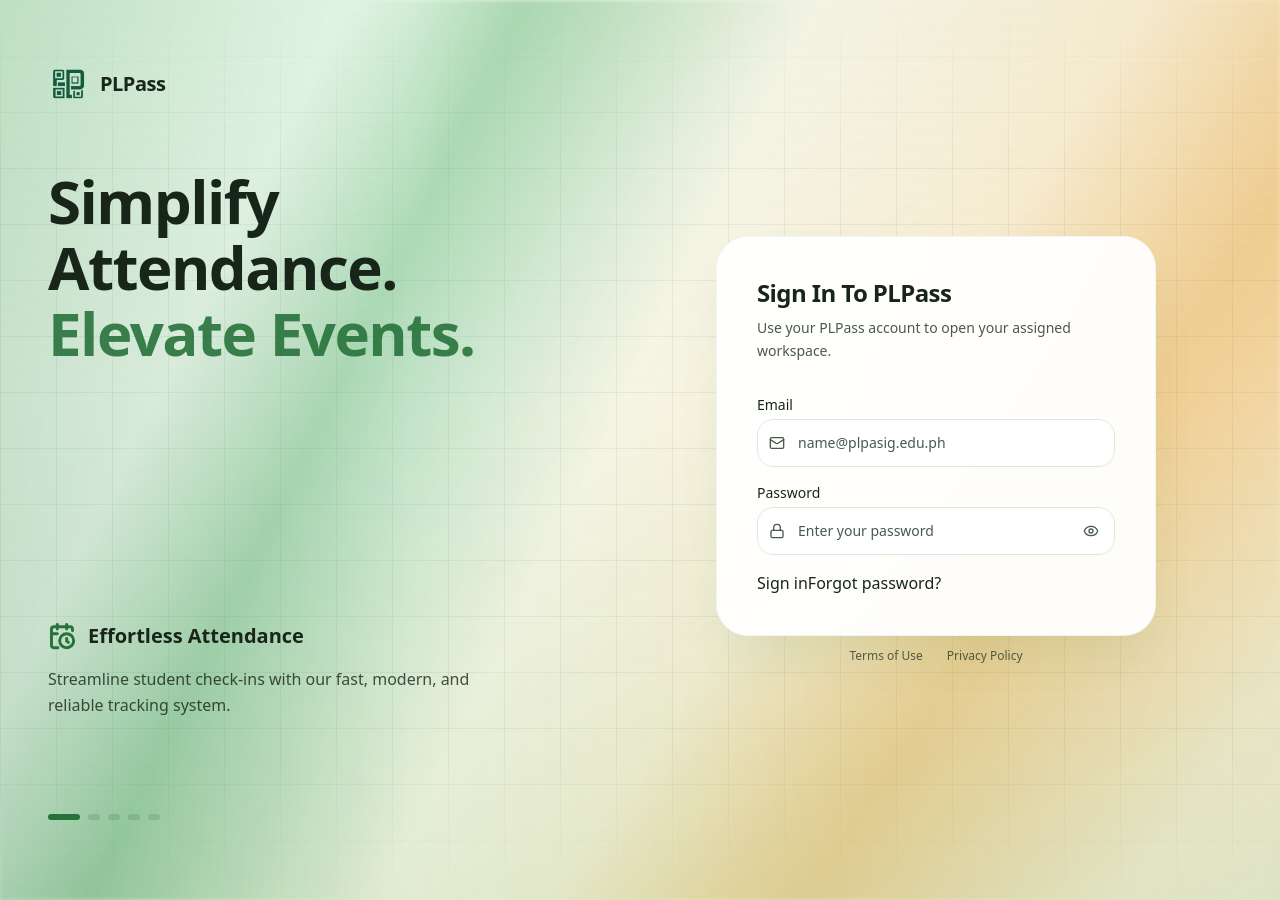
Scenario: mock authentication flow › uses generic guidance for unsuccessful sign-in attempts
The width and height of the screenshot is (1280, 900).
In the field labelled "Email": (936, 443) [757,419,1115,467], type "unknown@example.test"
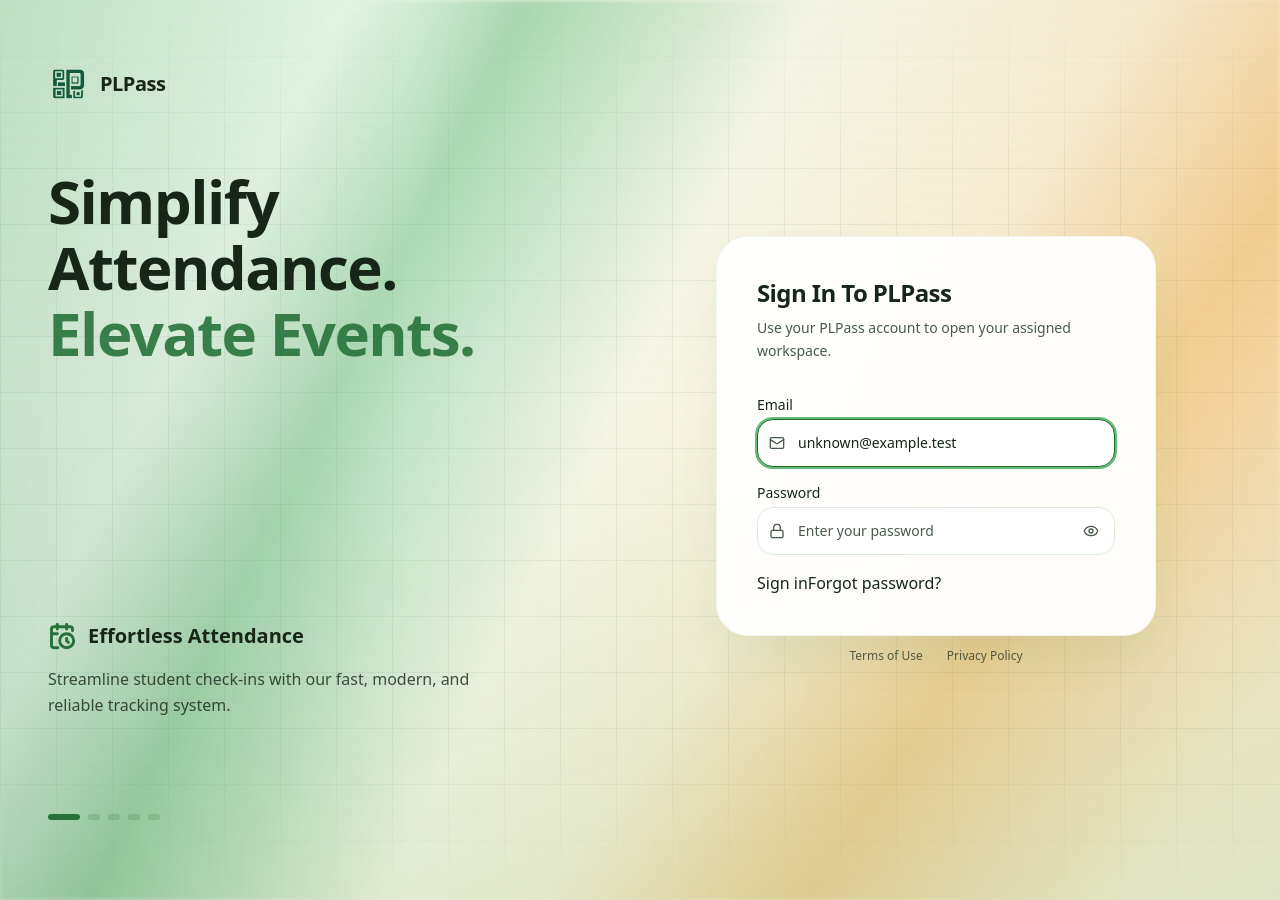
In the password field labelled "Password": (936, 531) [757,507,1115,555], type "not-a-password"
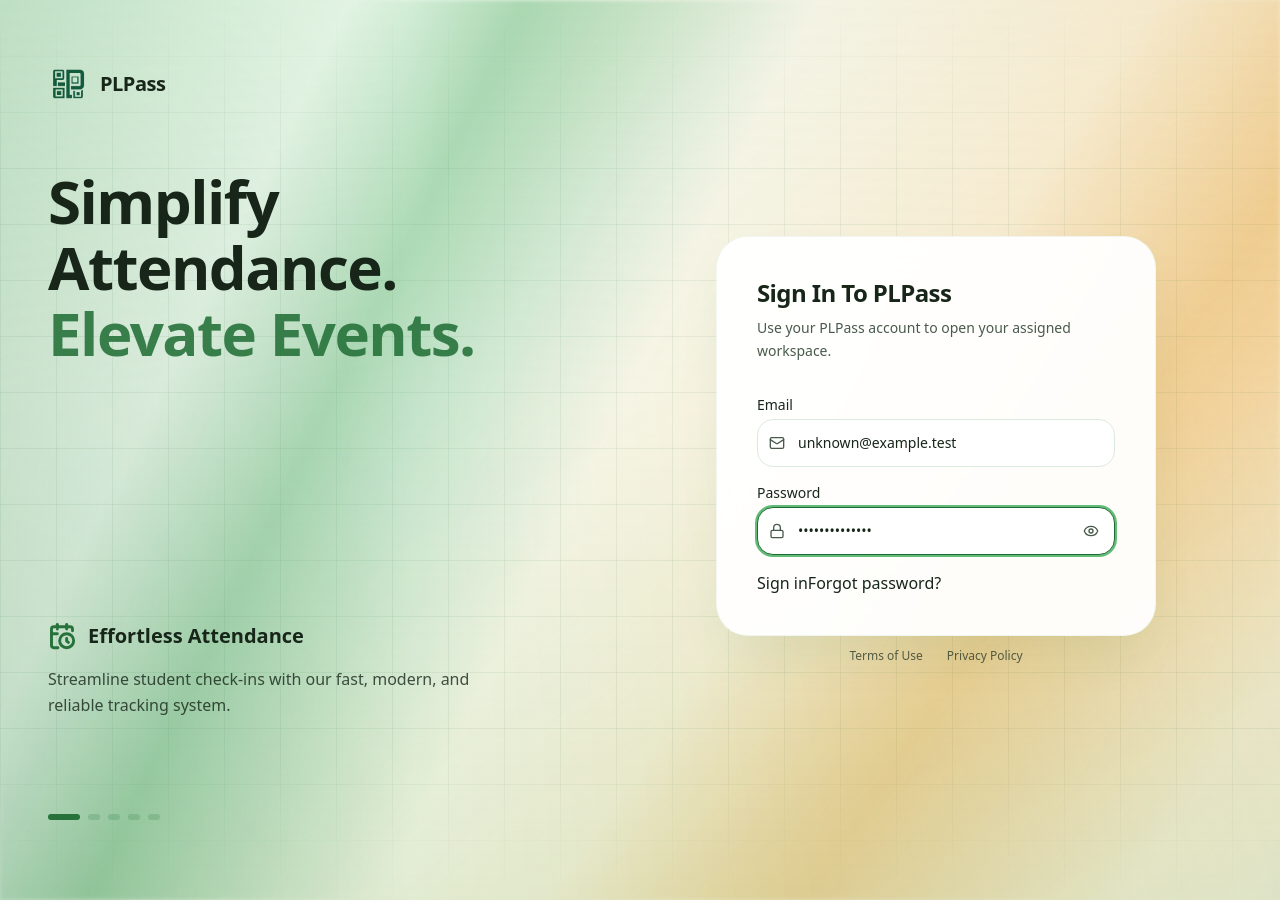
Click the button "Sign in": (782, 583) [757,571,808,595]
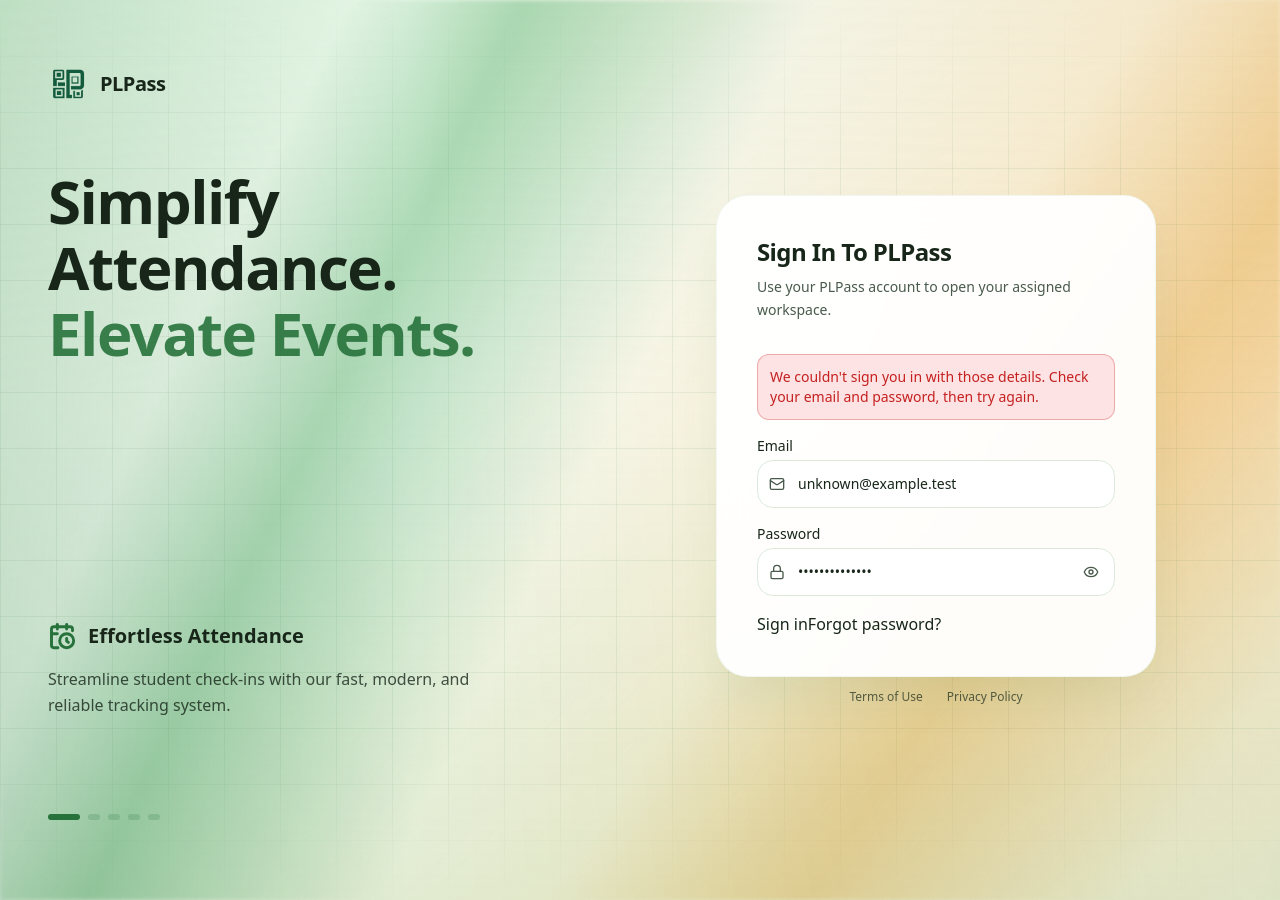
Now the message shows "We couldn't sign you in with those details. Check your email and password, then try again.", box [770,367,1088,406]
